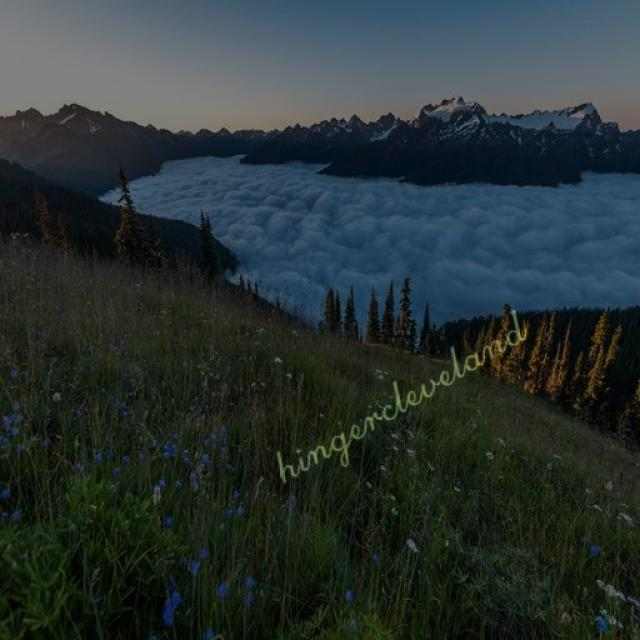watermark: (273, 302, 529, 491)
